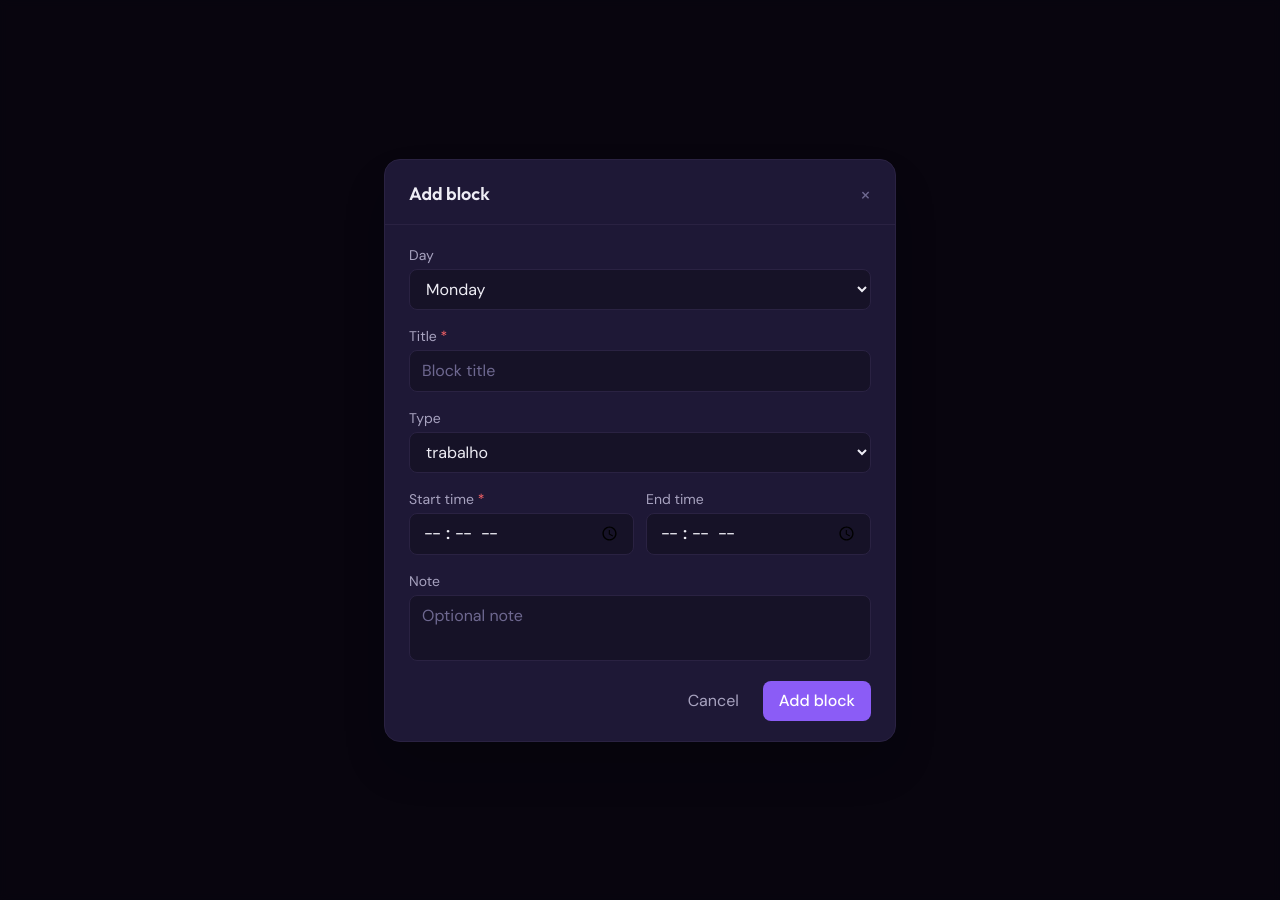
BlockModal › shows validation error when start time is missing
This screenshot has width=1280, height=900.
In the field labelled "Title *": (640, 370) [409, 350, 871, 392], type "Some block"
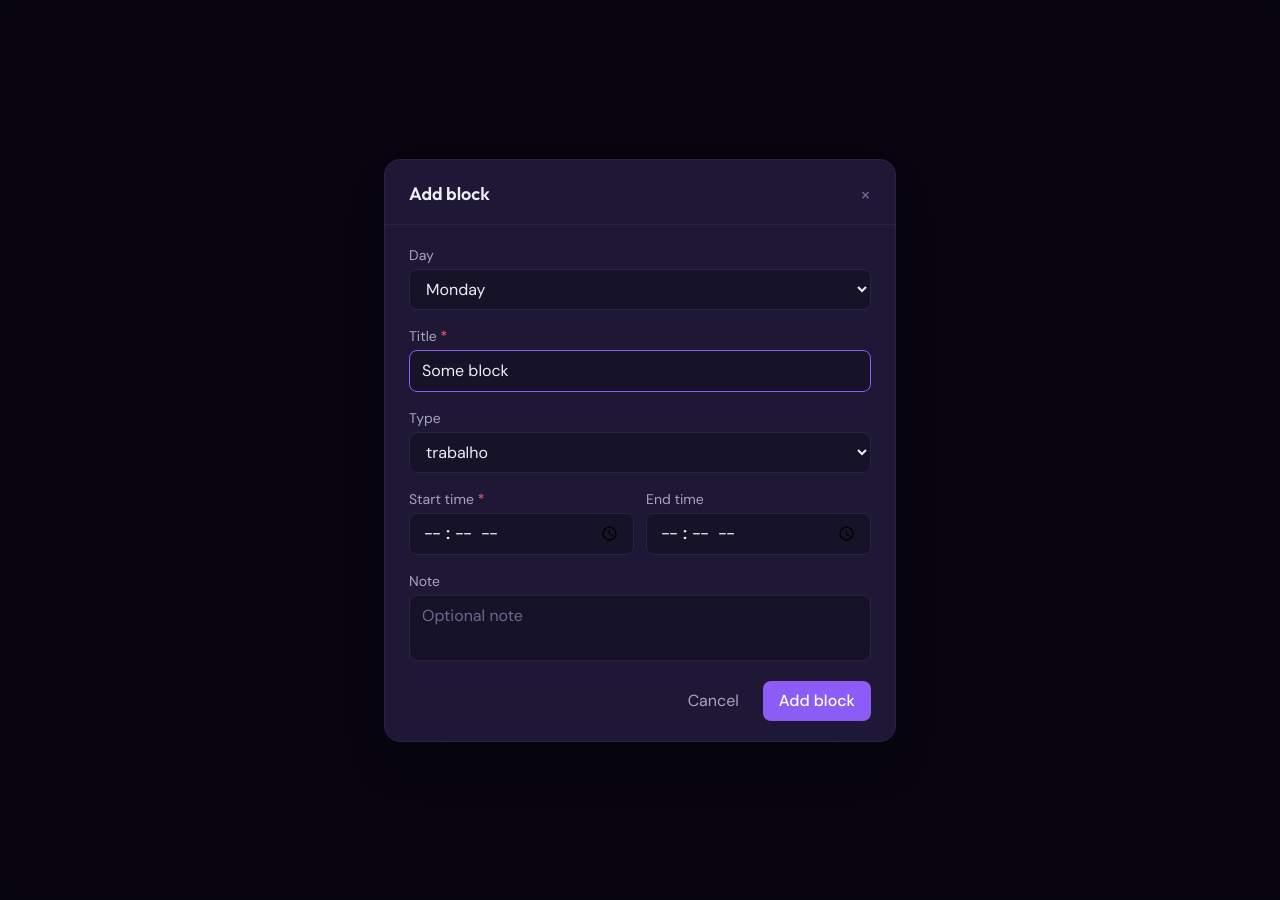
Click the button "Add block": (817, 700) [763, 680, 871, 720]
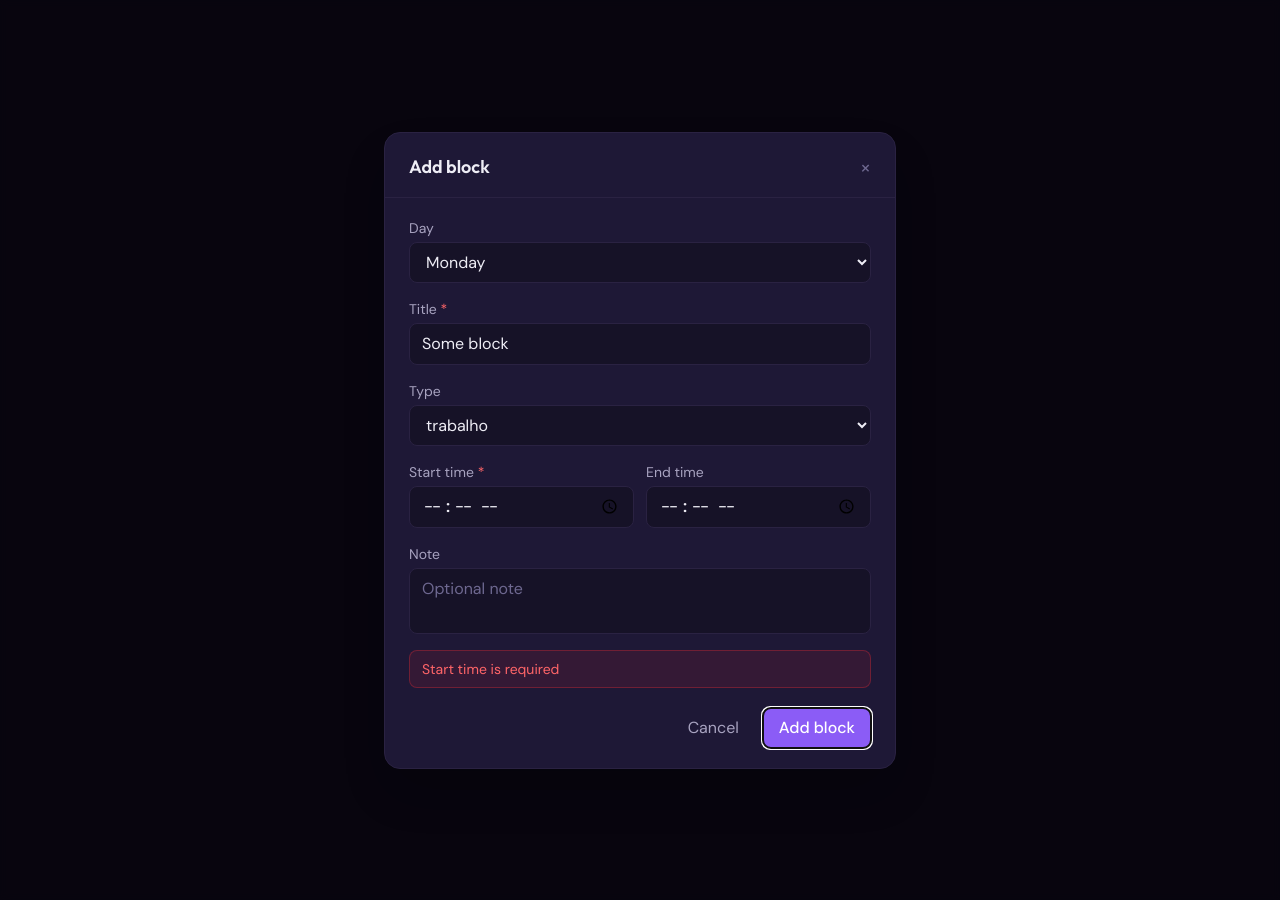
Expected: the message reads "Start time is required", [422, 660, 559, 678]
